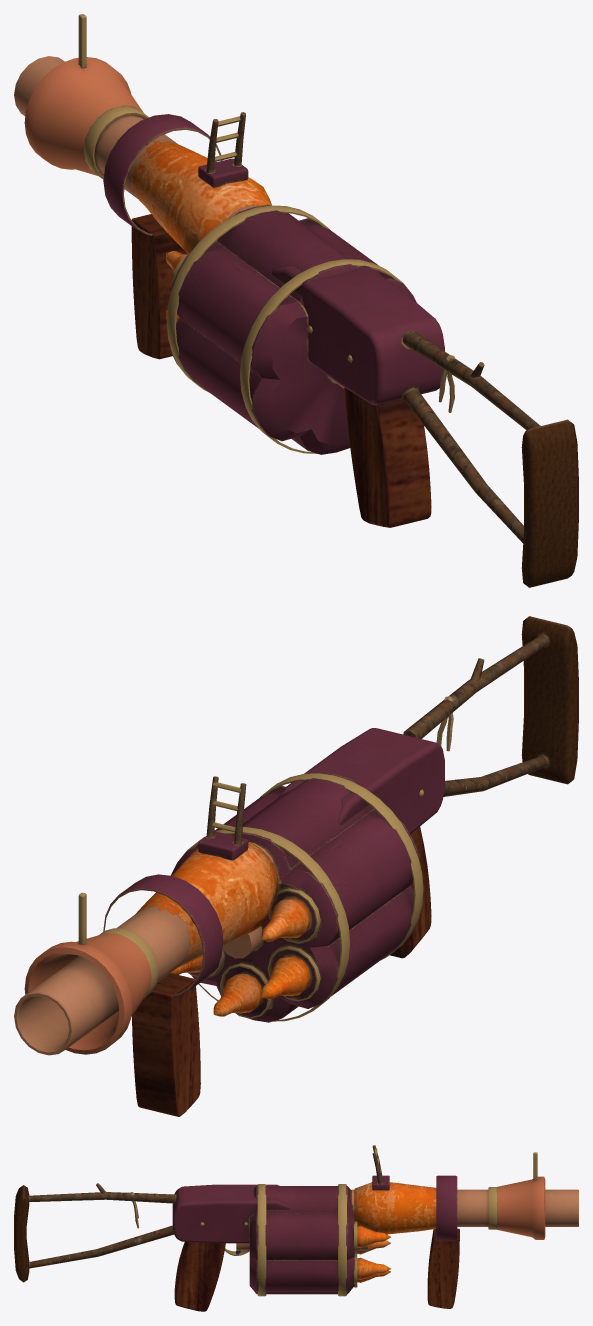
Rendered from carrot_lobber.glb.
3 views of the same model, one above another, from view 1: azimuth 30°, elevation 25°; view 2: azimuth 150°, elevation 25°; view 3: azimuth 270°, elevation 25° (orthographic). The views are drawn at different scales.
Visible parts, largest first — view 1: carrot_lobber; view 2: carrot_lobber; view 3: carrot_lobber.
Part boxes in pixels (box(x1,y1,x2,y2)): carrot_lobber: box(14, 14, 578, 587); carrot_lobber: box(14, 616, 578, 1116); carrot_lobber: box(14, 1145, 578, 1311).
Bounding box in the file's own units: 0.1287 × 0.1983 × 0.645.
Materials: 1 (1 with a texture image).
